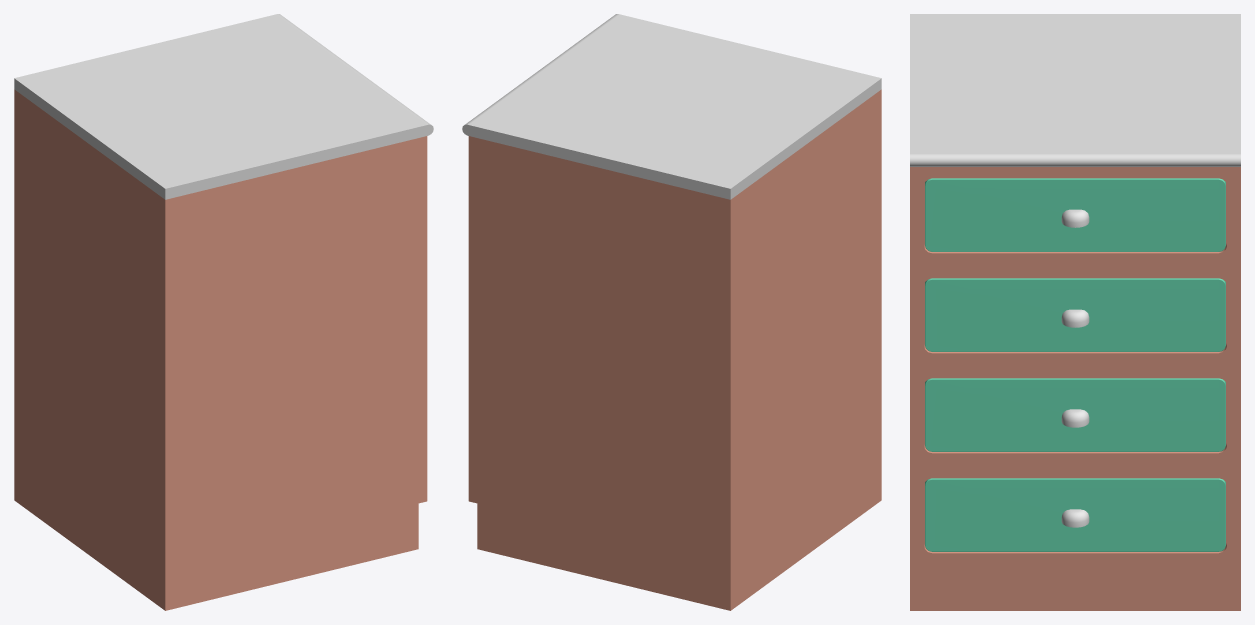
File: Counter_4D.fbx
3 views of the same model, side by side, from view 1: azimuth 30°, elevation 25°; view 2: azimuth 150°, elevation 25°; view 3: azimuth 270°, elevation 25° (orthographic). The views are drawn at different scales.
Visible parts, largest first — view 1: Counter_4D; view 2: Counter_4D; view 3: Counter_4D, Counter_Handle.003, Counter_Handle.002, Counter_Handle.004, Counter_Handle.005.
Boxes of the visible parts, left/top/right/bottom form: Counter_4D: left=14, top=14, right=433, bottom=610; Counter_4D: left=462, top=14, right=881, bottom=610; Counter_4D: left=910, top=14, right=1240, bottom=610; Counter_Handle.003: left=1061, top=309, right=1089, bottom=327; Counter_Handle.002: left=1061, top=209, right=1089, bottom=227; Counter_Handle.004: left=1061, top=409, right=1089, bottom=427; Counter_Handle.005: left=1061, top=509, right=1089, bottom=527.
Size of the model in its own units: 625 by 600 by 924.
